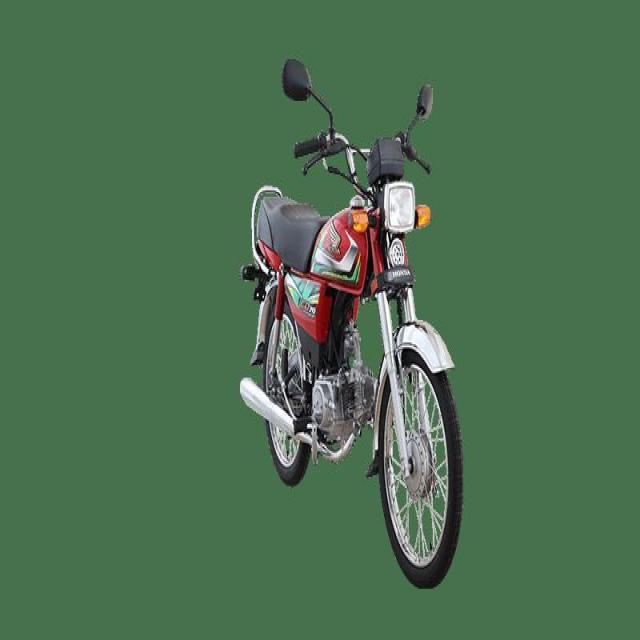motorcycle: (217, 33, 505, 594)
